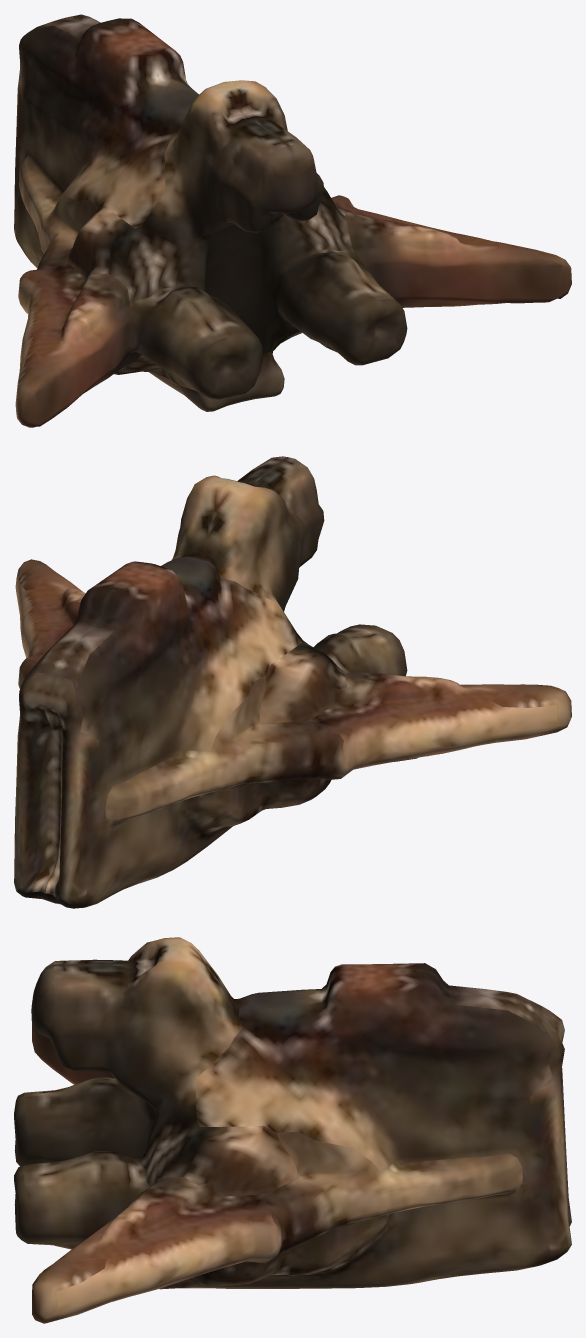
The model's file is placeholder_kaijurai.glb.
3 renders of one model, top to bottom at view 1: azimuth 30°, elevation 25°; view 2: azimuth 150°, elevation 25°; view 3: azimuth 270°, elevation 25°, orthographic. The views are drawn at different scales.
Visible parts, largest first — view 1: placeholder_kaijurai; view 2: placeholder_kaijurai; view 3: placeholder_kaijurai.
Part boxes in pixels (<box>): placeholder_kaijurai: <box>14,14,571,427</box>; placeholder_kaijurai: <box>14,456,571,908</box>; placeholder_kaijurai: <box>14,937,571,1323</box>.
Bounding box in the file's own units: 0.1166 × 0.0628 × 0.0975.
Materials: 1 (1 with a texture image).
